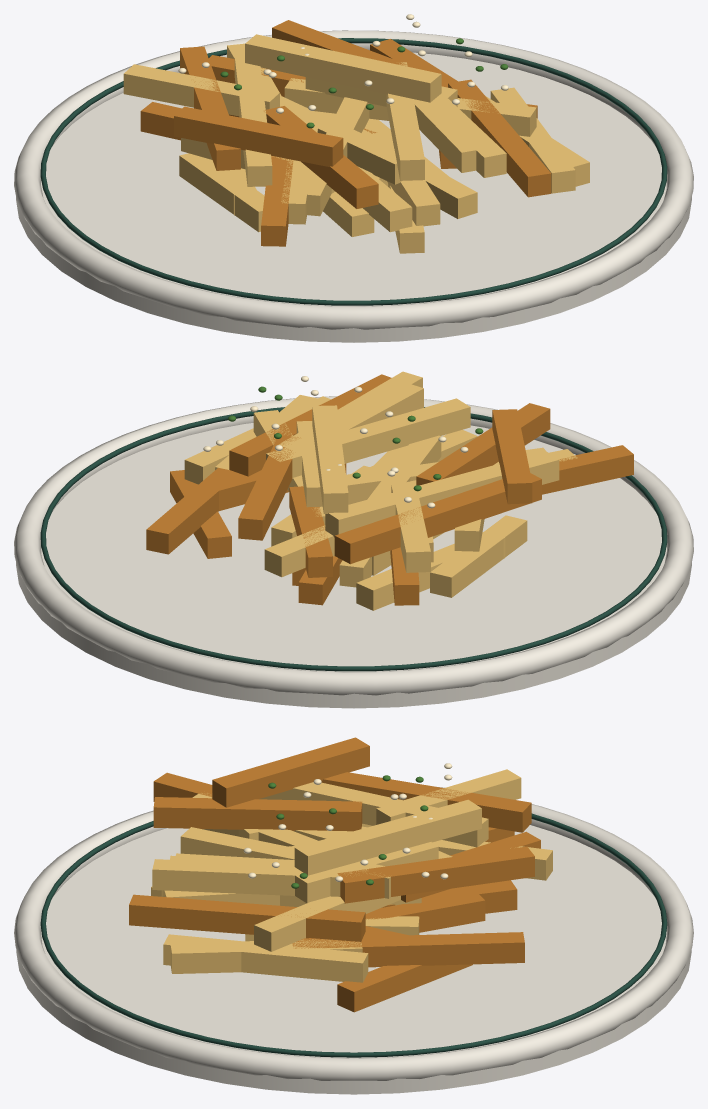
File: fries-regular.glb
3 views of the same model, one above another, from view 1: azimuth 30°, elevation 25°; view 2: azimuth 150°, elevation 25°; view 3: azimuth 270°, elevation 25° (orthographic).
Visible parts, largest first — view 1: Morsel original fries regular; view 2: Morsel original fries regular; view 3: Morsel original fries regular.
Part boxes in pixels (x1,y1,x2,y2): Morsel original fries regular: [14, 14, 693, 342]; Morsel original fries regular: [14, 371, 693, 708]; Morsel original fries regular: [14, 737, 693, 1094].
Bounding box in the file's own units: 3.02 × 0.6245 × 3.02.
